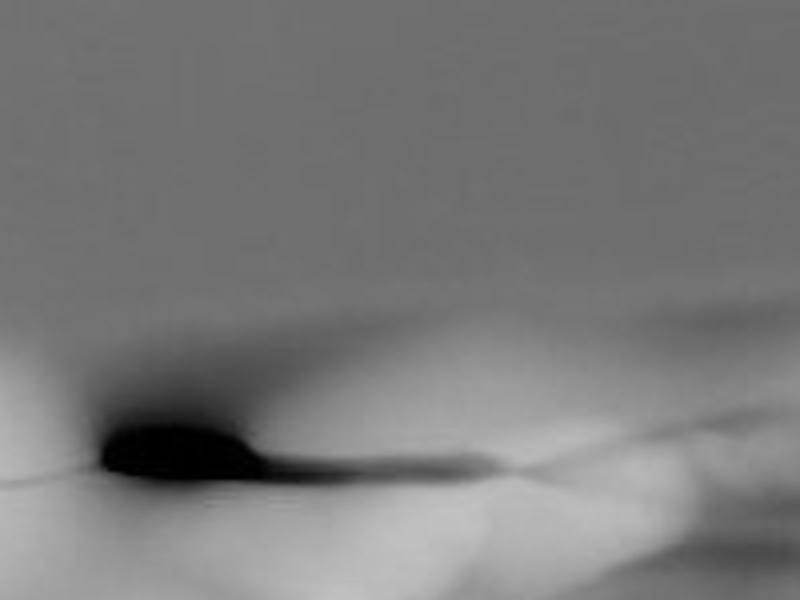defect: (99, 425, 275, 486)
